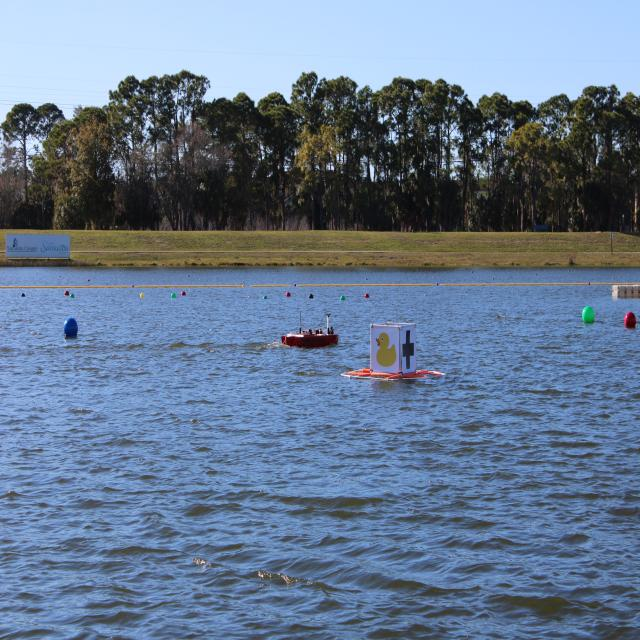blue-buoy: (64, 316, 80, 342)
green-buoy: (582, 303, 594, 323), (70, 292, 76, 299), (342, 294, 347, 301)
red-buoy: (625, 312, 638, 329), (184, 290, 189, 296)
yellow-duck: (370, 326, 401, 378)
